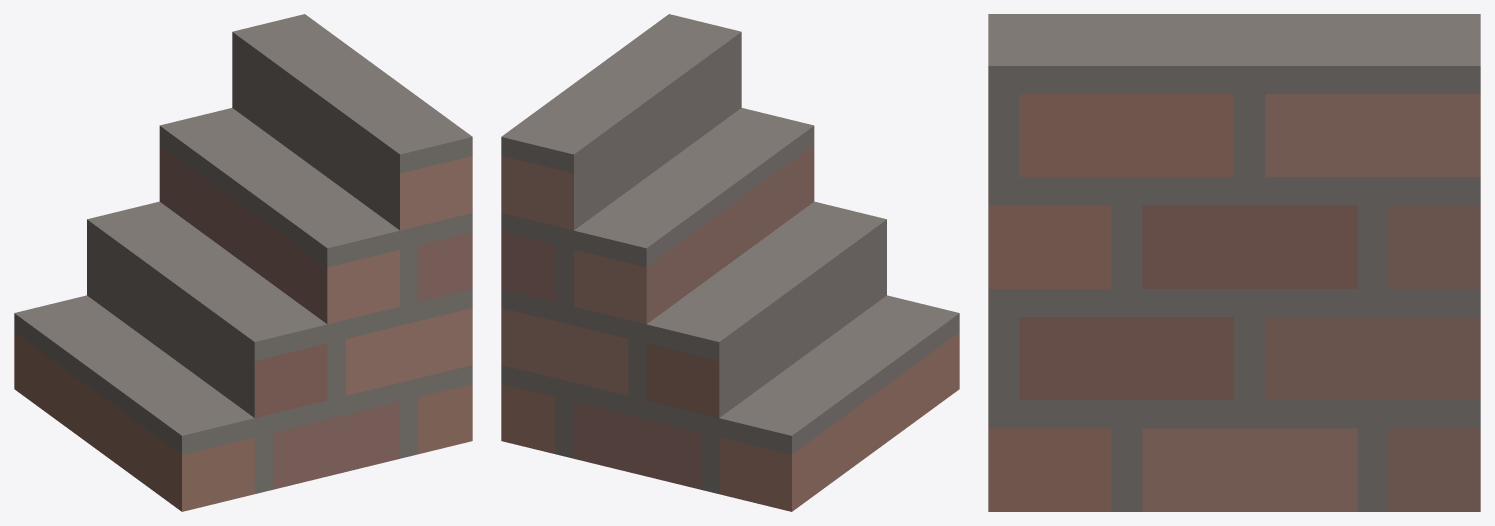
File: brick.stairs-4.glb
The picture shows the model from 3 angles, left to right: view 1: azimuth 30°, elevation 25°; view 2: azimuth 150°, elevation 25°; view 3: azimuth 270°, elevation 25°; orthographic projection. The views are drawn at different scales.
Size of the model in its own units: 1 by 1 by 1.
